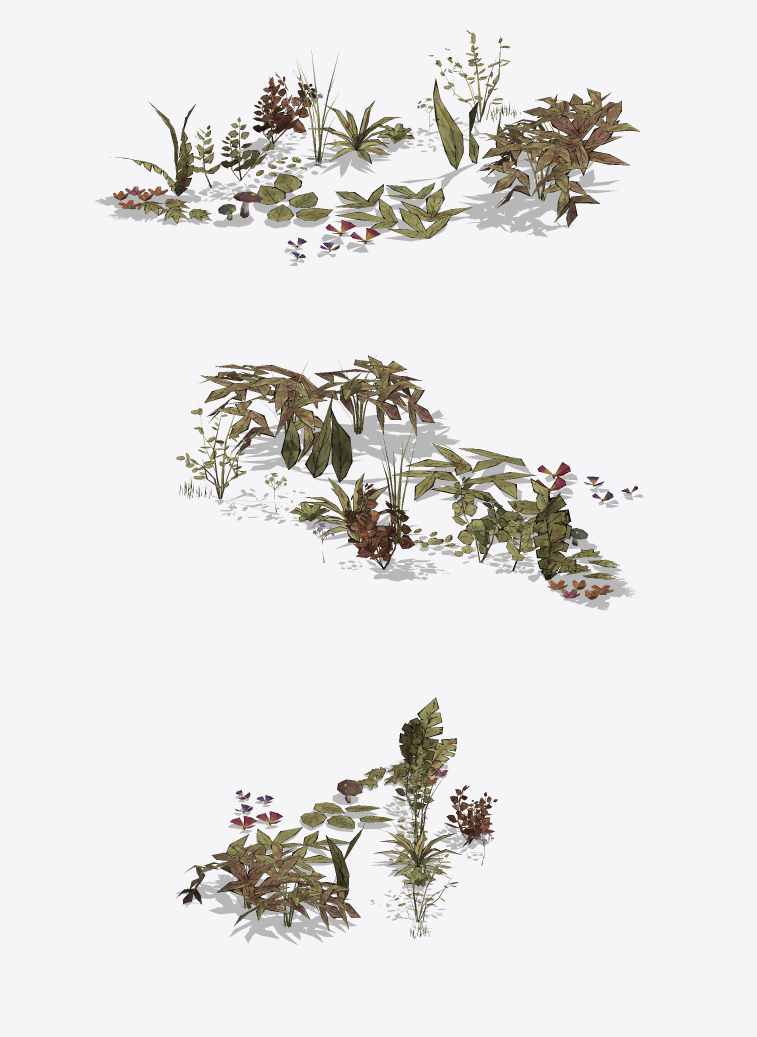
Rendered from plants.obj.
3 views of the same model, one above another, from view 1: azimuth 30°, elevation 25°; view 2: azimuth 150°, elevation 25°; view 3: azimuth 270°, elevation 25° (orthographic). The views are drawn at different scales.
Parts seen in each view (by area): view 1: Plane.014_0_plants, Plane_0_Material.001, Plane.005_0_plants002; view 2: Plane.014_0_plants, Plane_0_Material.001, Plane.005_0_plants002; view 3: Plane.014_0_plants, Plane_0_Material.001, Plane.005_0_plants002.
Part boxes in pixels (left/top/right/bottom): Plane.014_0_plants: left=113, top=30, right=520, bottom=243; Plane_0_Material.001: left=94, top=113, right=619, bottom=265; Plane.005_0_plants002: left=218, top=70, right=639, bottom=259; Plane.014_0_plants: left=176, top=395, right=619, bottom=599; Plane_0_Material.001: left=185, top=406, right=643, bottom=610; Plane.005_0_plants002: left=200, top=353, right=637, bottom=569; Plane.014_0_plants: left=226, top=697, right=461, bottom=939; Plane_0_Material.001: left=175, top=758, right=488, bottom=944; Plane.005_0_plants002: left=176, top=785, right=497, bottom=931.
Size of the model in its own units: 24.6 by 3.71 by 24.6.
